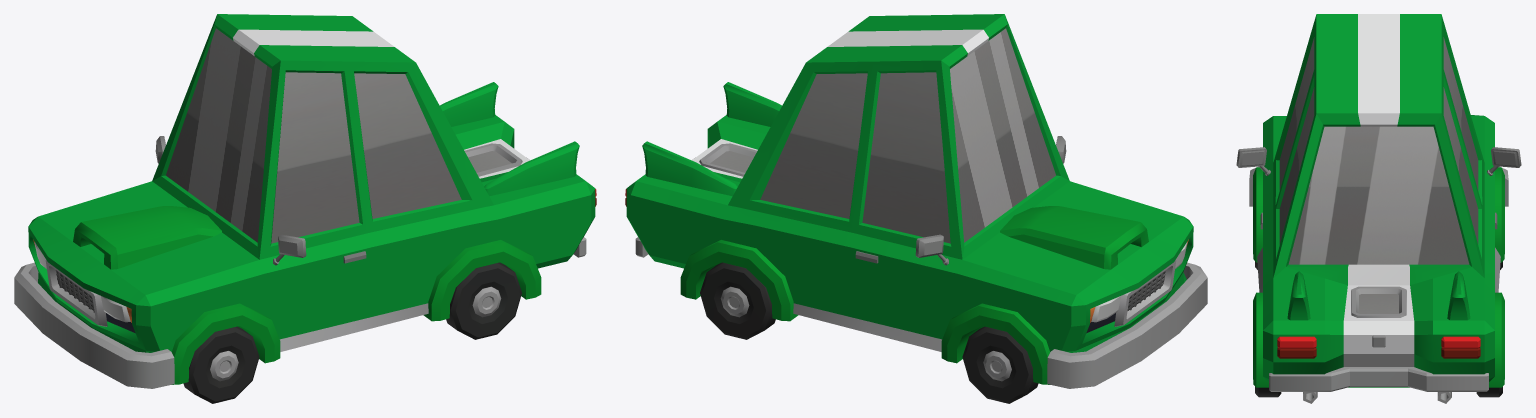
File: Car_11_X.gltf
3 renders of one model, left to right at view 1: azimuth 30°, elevation 25°; view 2: azimuth 150°, elevation 25°; view 3: azimuth 270°, elevation 25°, orthographic.
Visible parts, largest first — view 1: Car_11_X, RL, FL; view 2: Car_11_X, RR, FR; view 3: Car_11_X.
Boxes of the visible parts, bbox=[...] form: Car_11_X: bbox=[14, 14, 596, 388]; RL: bbox=[446, 262, 521, 339]; FL: bbox=[183, 326, 259, 403]; Car_11_X: bbox=[625, 14, 1207, 388]; RR: bbox=[700, 262, 775, 339]; FR: bbox=[962, 326, 1038, 403]; Car_11_X: bbox=[1236, 14, 1521, 403].
Bounding box in the file's own units: 3.58 × 2.1 × 1.85.
3 materials, 3 textured.
